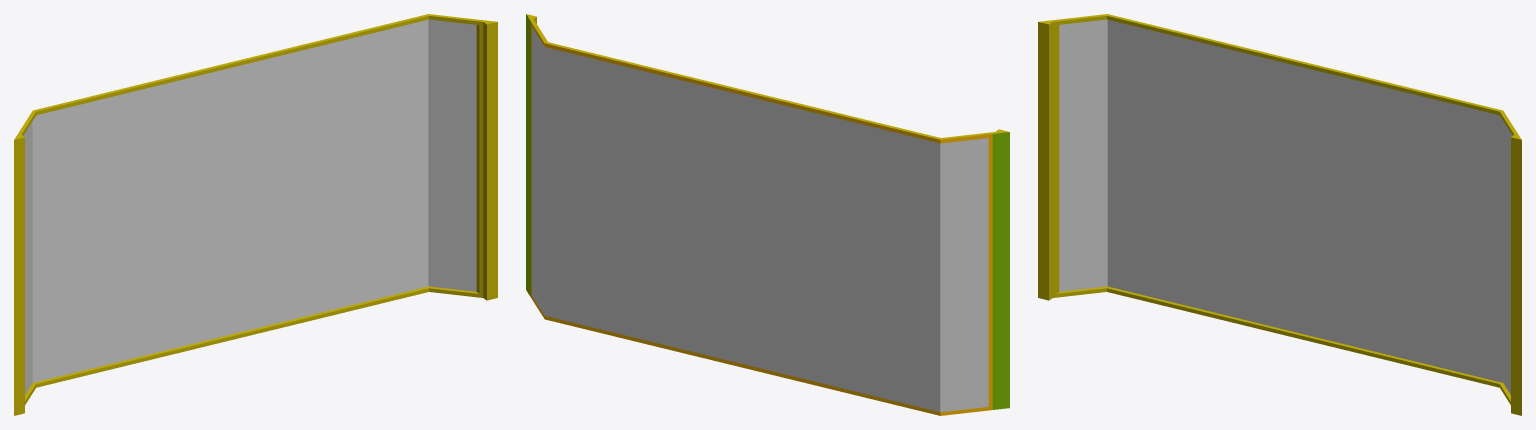
File: window_panoramic_11x1x6.dae
3 renders of one model, left to right at view 1: azimuth 30°, elevation 25°; view 2: azimuth 150°, elevation 25°; view 3: azimuth 330°, elevation 25°, orthographic.
Parts seen in each view (by area): view 1: Cube; view 2: Cube; view 3: Cube.
Part boxes in pixels (x1,y1,x2,y2): Cube: [14, 14, 497, 415]; Cube: [526, 14, 1009, 415]; Cube: [1038, 14, 1521, 415].
Bounding box in the file's own units: 2.75 × 0.25 × 1.5.
